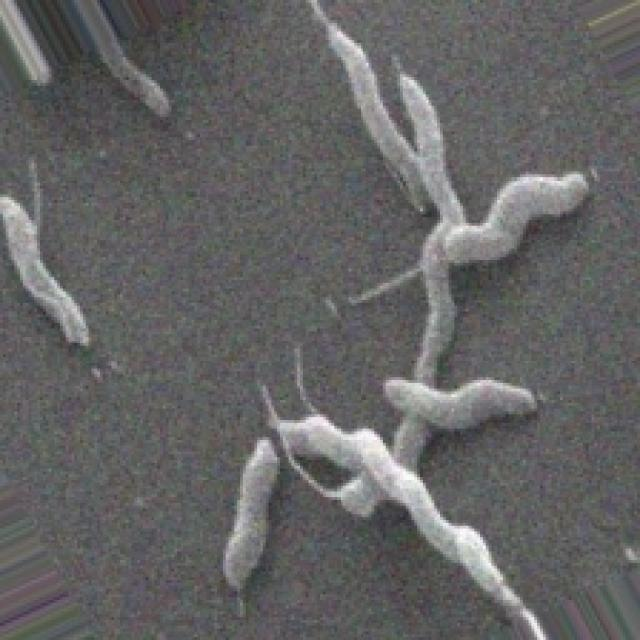Spiral_bacteria: (215, 0, 594, 637)
